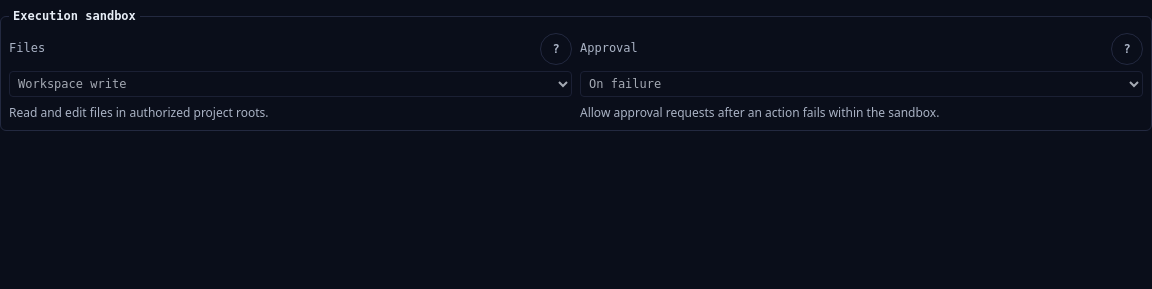
SandboxPolicyControls › keeps help operable when policy editing is locked for an active session
Check: the dropdown named "Sandbox file access" is disabled, box [9,71,572,97]
Check: the dropdown named "Sandbox approval policy" is disabled, box [580,71,1143,97]
Step 1. Click the button named "About sandbox file access" → click(556, 49), box [540,33,572,65]
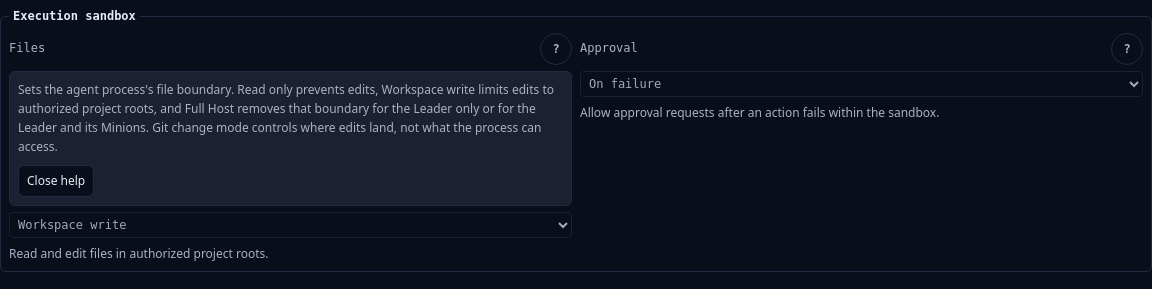
Check: the element named "About sandbox file access" is shown, box [9,71,572,206]
